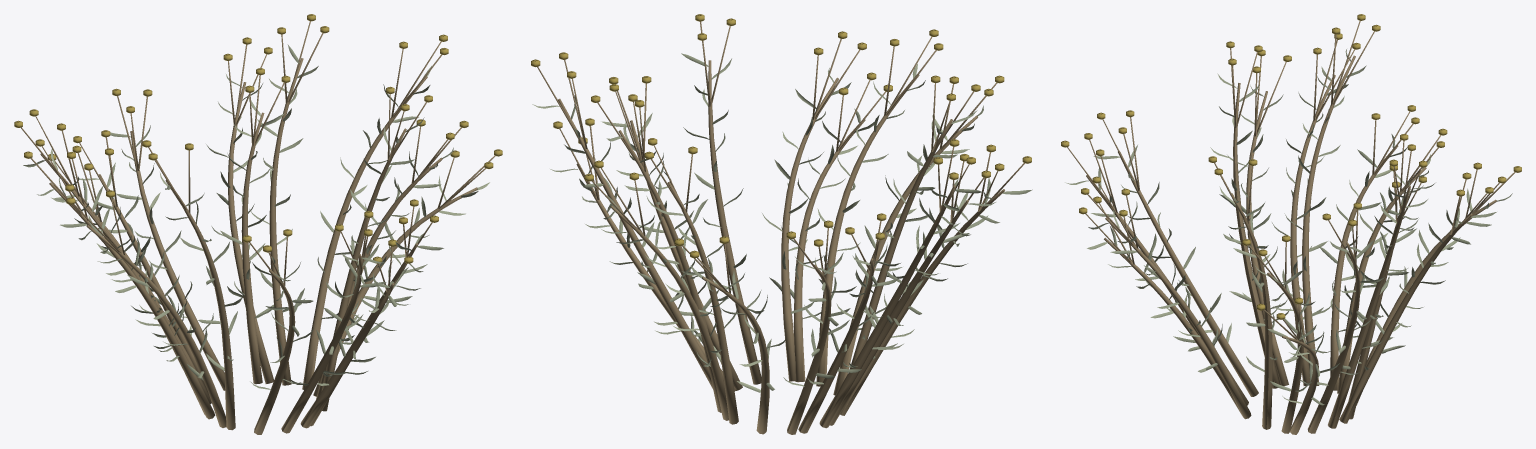
File: Immortelle_0_Niveau0.fbx
3 views of the same model, side by side, from view 1: azimuth 30°, elevation 25°; view 2: azimuth 150°, elevation 25°; view 3: azimuth 270°, elevation 25° (orthographic). The views are drawn at different scales.
Parts seen in each view (by area): view 1: Immortelle_0_Niveau0; view 2: Immortelle_0_Niveau0; view 3: Immortelle_0_Niveau0.
Part boxes in pixels (x1=…): Immortelle_0_Niveau0: x1=14, y1=14, x2=502, y2=434; Immortelle_0_Niveau0: x1=531, y1=14, x2=1032, y2=434; Immortelle_0_Niveau0: x1=1061, y1=14, x2=1521, y2=434.
Bounding box in the file's own units: 40.23 × 27.39 × 38.01.
